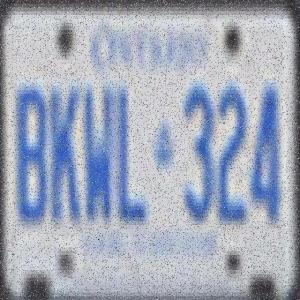Plate: (2, 8, 298, 292)
